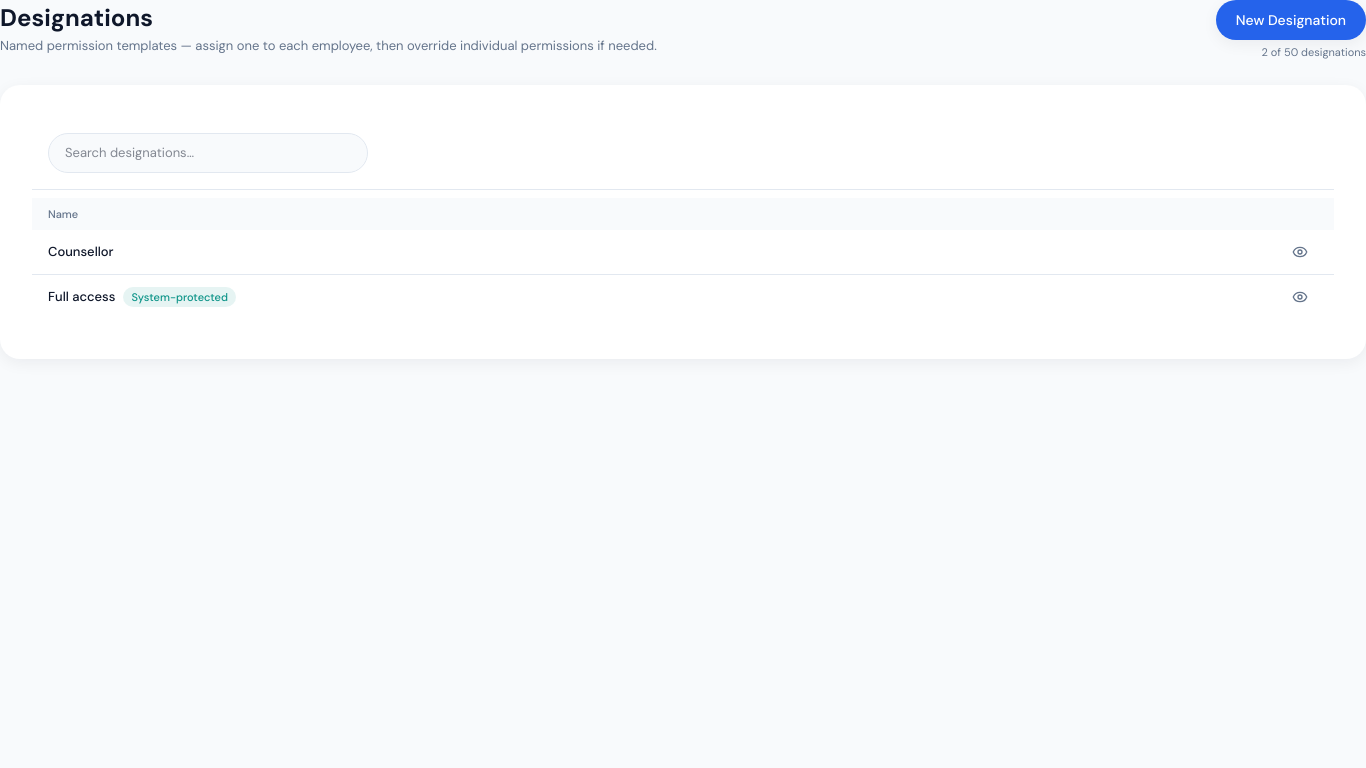
Test case: the Designations page › counts every designation against the ceiling and lets a protected one be viewed, not edited
Expected: the button "New Designation" is enabled, [1216,0,1365,40]
Expected: the text "2 of 50 designations" is shown, [1262,44,1365,60]
What coordinates should you click on to do the following:
click the button named "View permissions for Full access"
I would click on:
 (1300, 297)
Its box is [1282,279,1318,315].
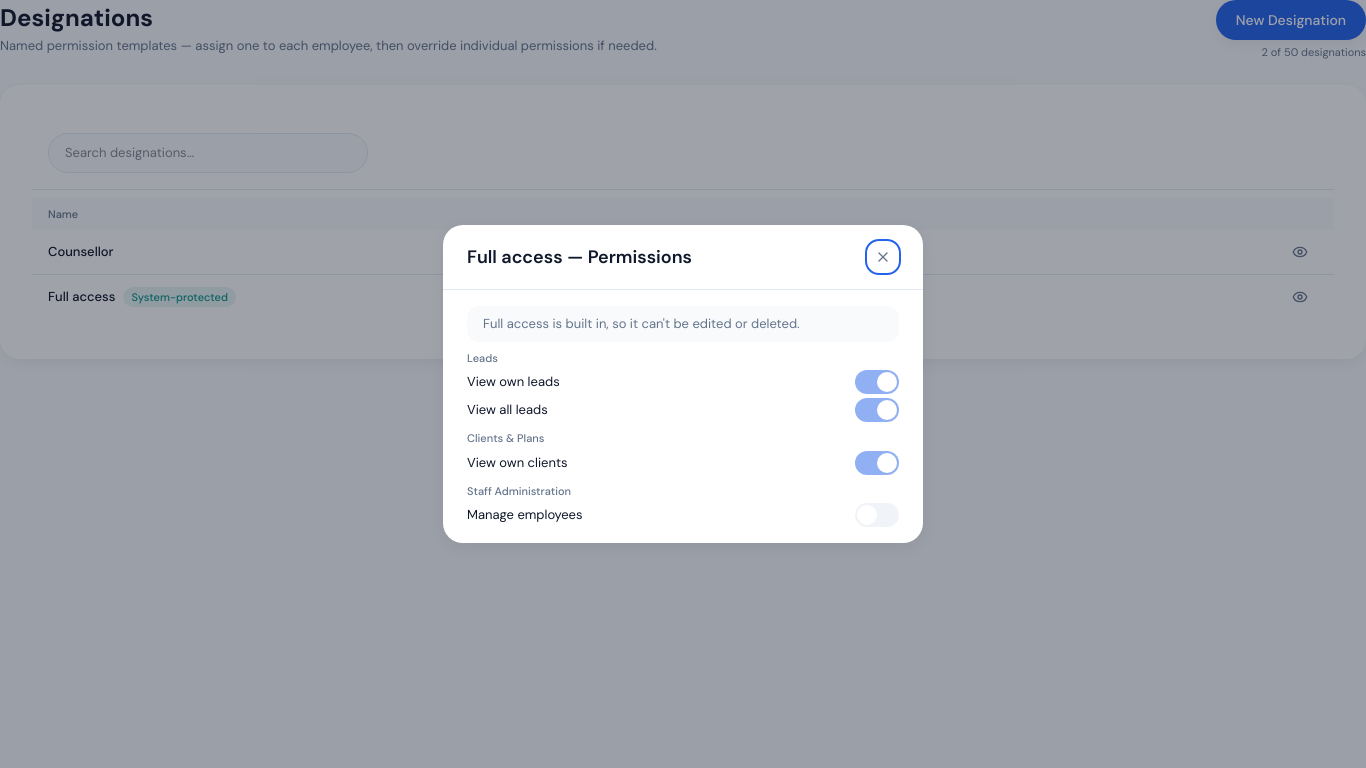
Now the switch named "View own leads" is disabled, box [855,370,899,394]
